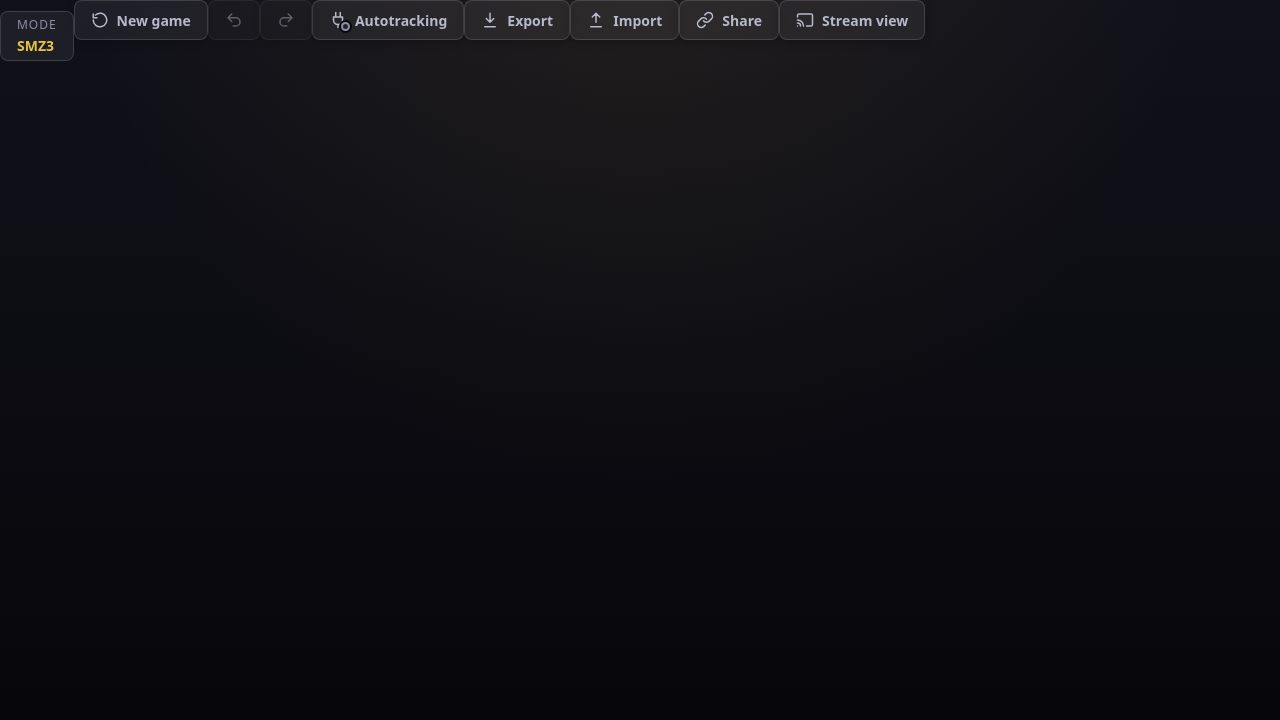
Test: the SMZ3 toolbar › offers the run timer under the grid, adding it to the address
Click the button with test id "smz3-stream-view" at (852, 20), box [779,0,925,40]
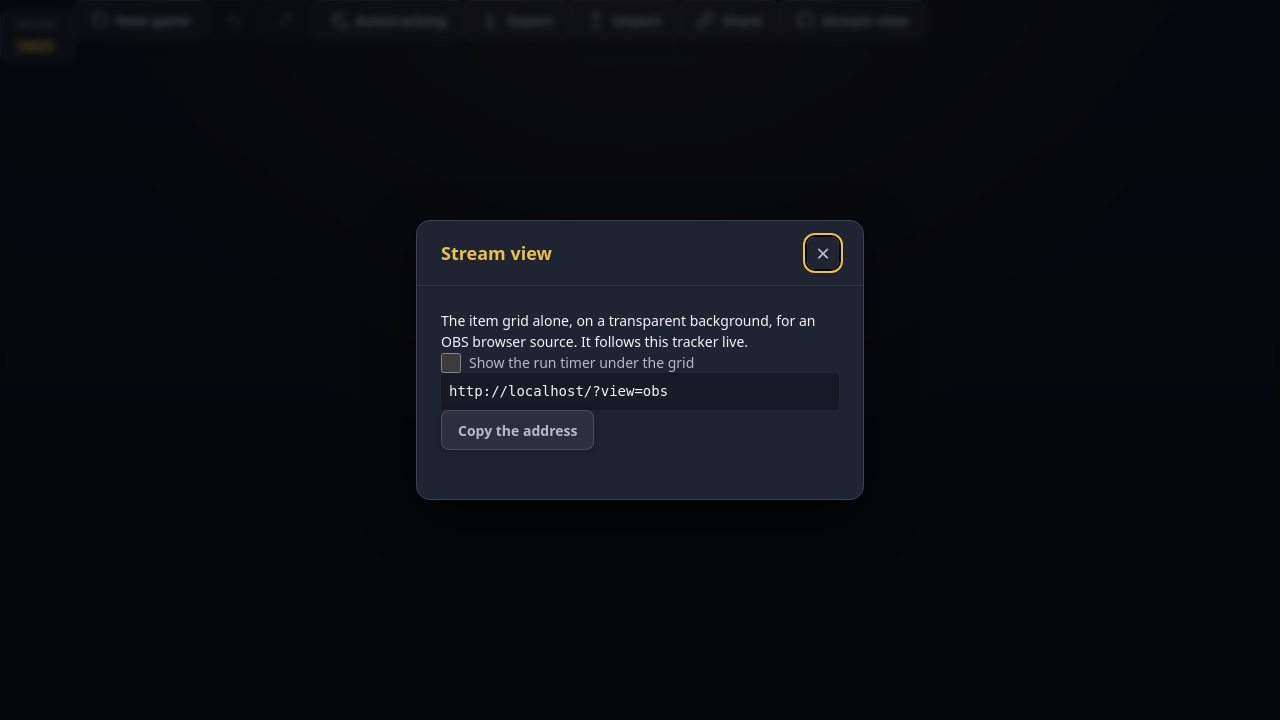
Expected: the text with test id "smz3-stream-url" does not show "timer=1", [441,373,839,410]
Click the checkbox with test id "smz3-stream-timer" at (451, 362), box [441,352,461,372]
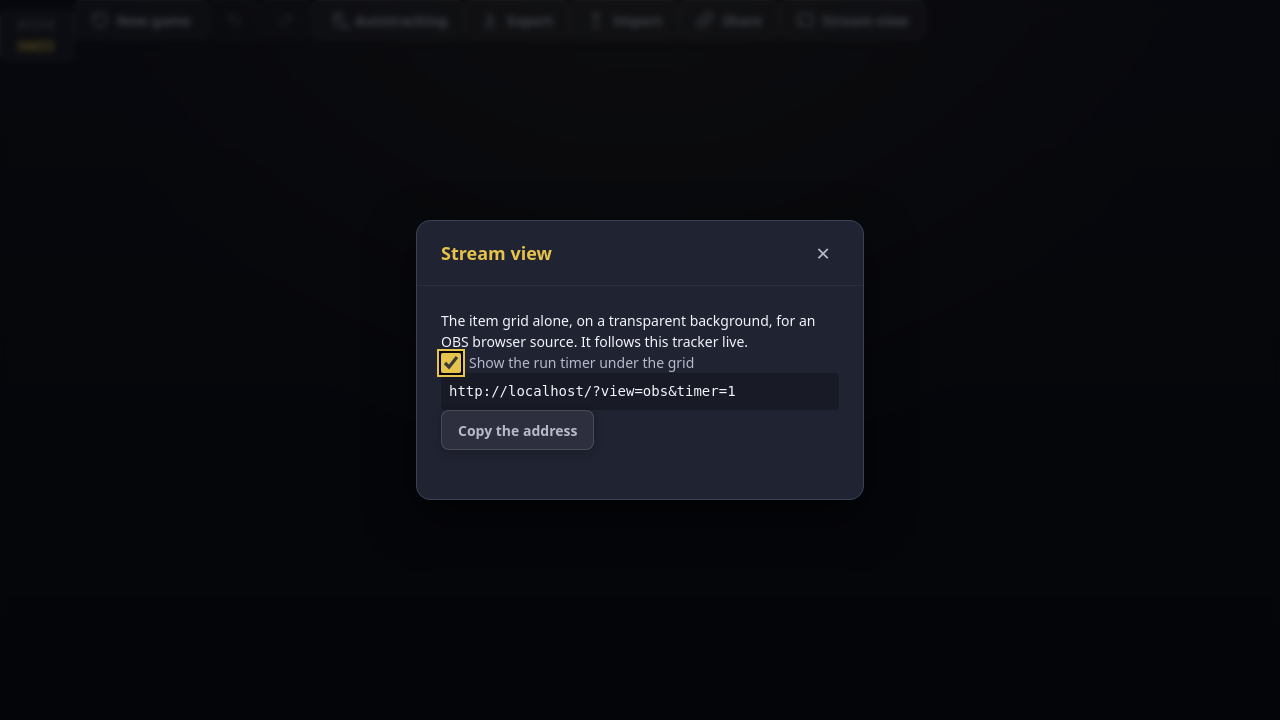
Expected: the text with test id "smz3-stream-url" shows "timer=1", [449,383,736,399]
